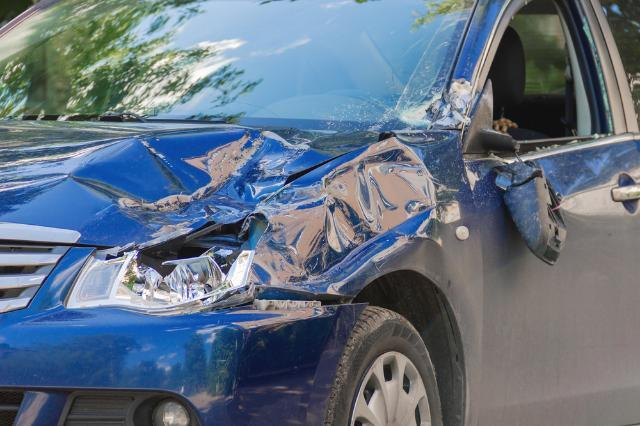dent: (247, 140, 435, 291), (70, 131, 315, 237)
dislocated part: (494, 129, 568, 267)
lamp broken: (67, 213, 267, 317)
